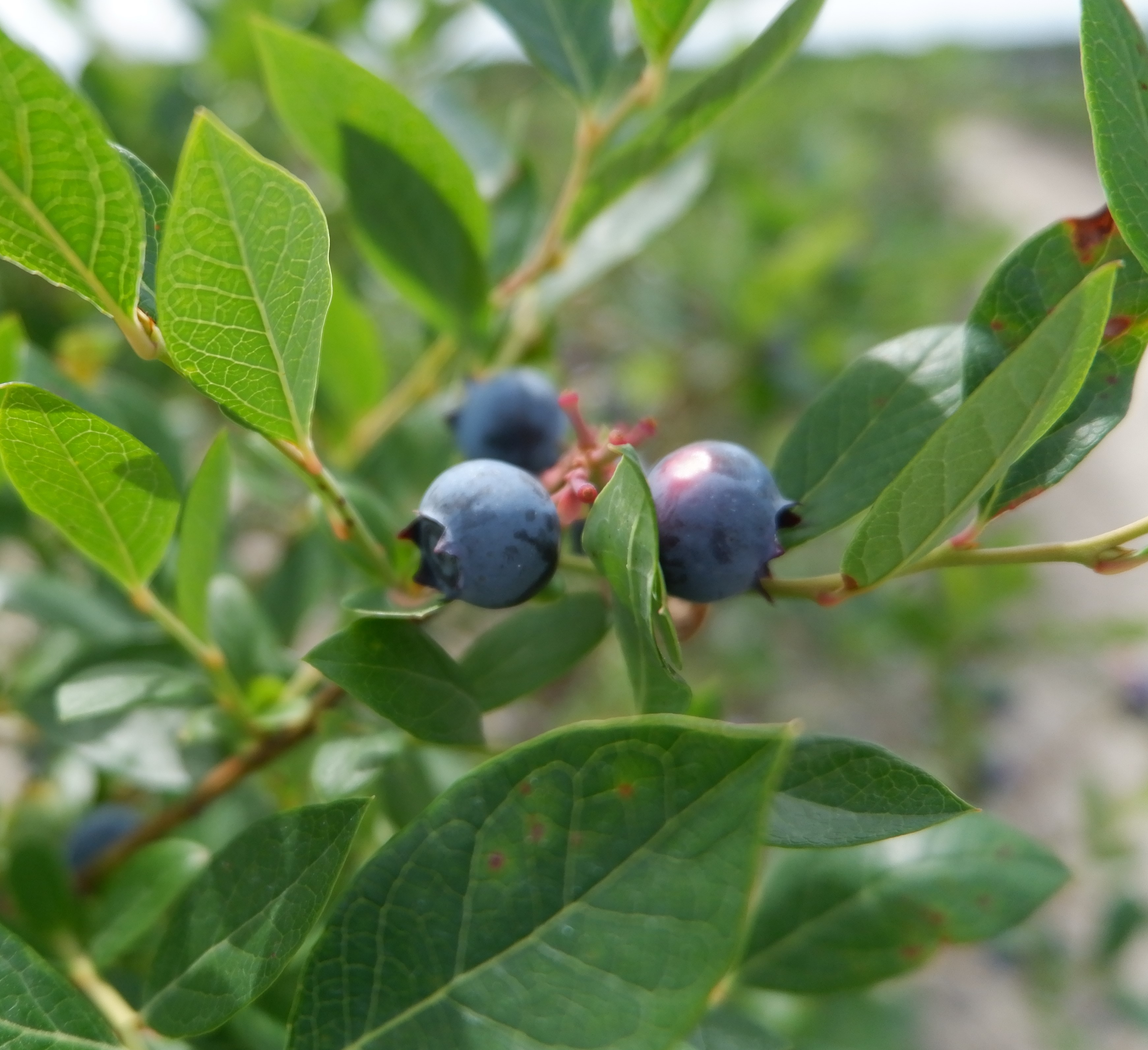Mature: (652, 444, 795, 603), (405, 463, 557, 605), (447, 370, 567, 475)
